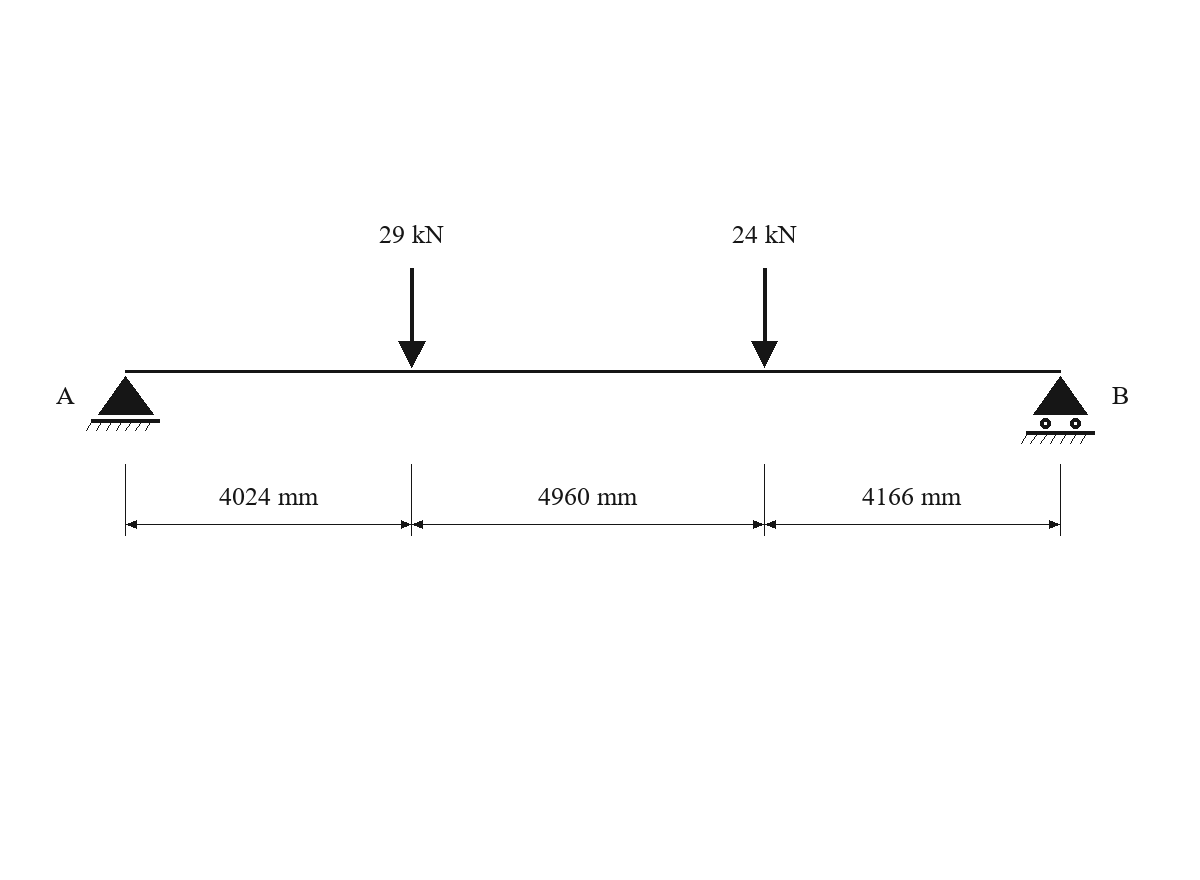pin_support: (86, 376, 160, 431)
point_load: (398, 268, 426, 368), (751, 268, 778, 368)
roller_support: (1021, 376, 1095, 444)
